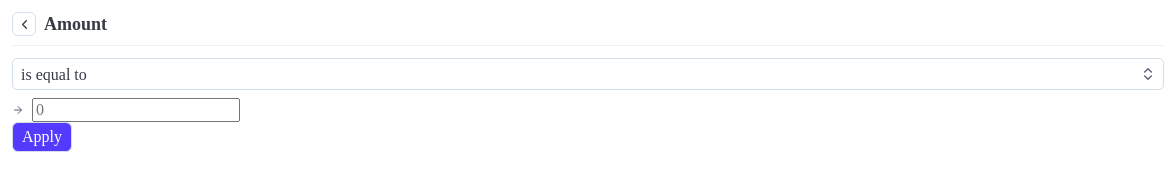
Test: FilterEditor › switches amount inputs with the operator
Select "is between" in the dropdown named "Number filter select": (588, 74) [12,58,1164,90]
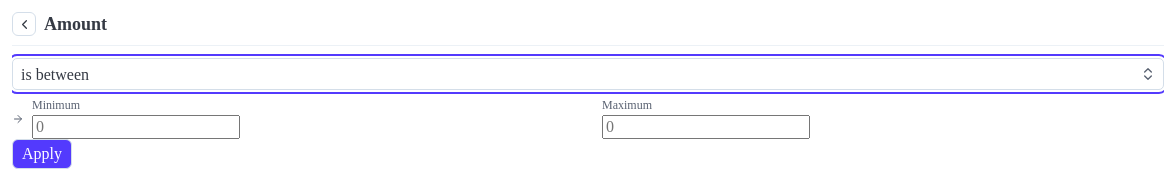
Expected: the number field labelled "Maximum" is shown, [602,115,810,139]
